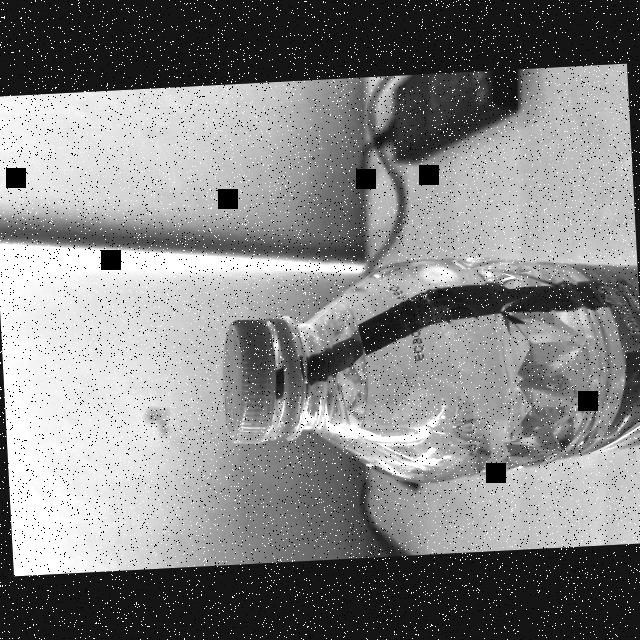plastic_bottle_cap: (208, 314, 280, 446)
